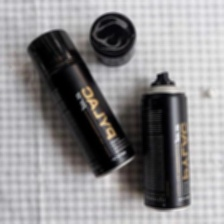aerosol_cans: (22, 23, 140, 183), (136, 68, 195, 213)
